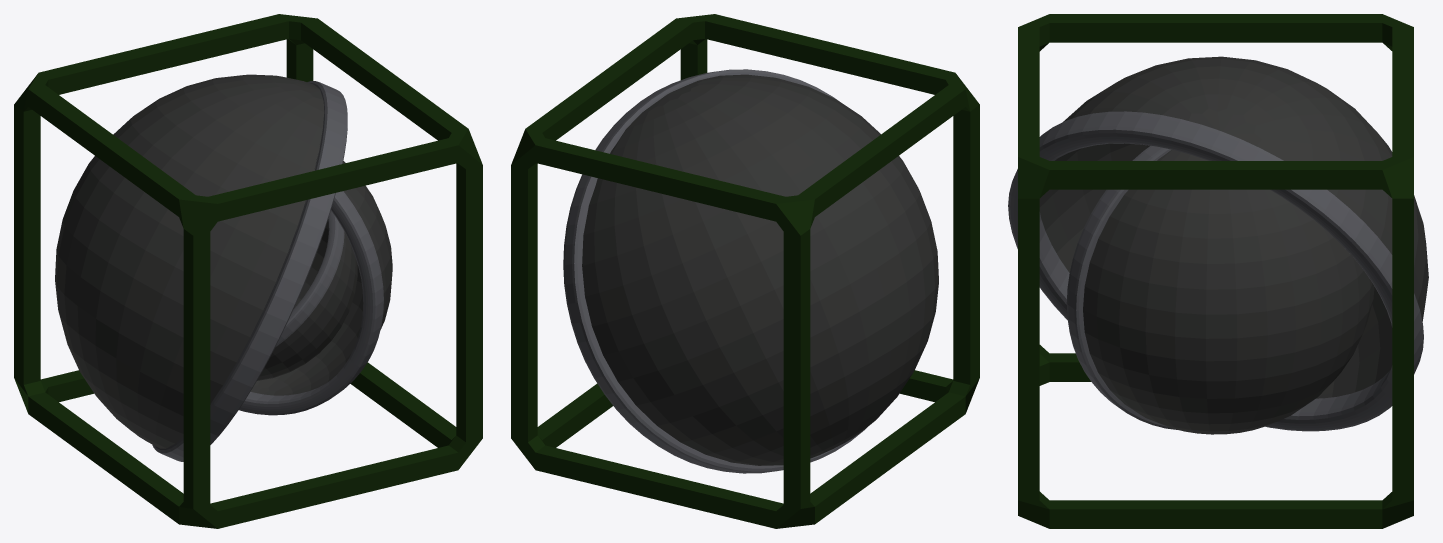
The model's file is Nullelement.fbx.
3 renders of one model, left to right at view 1: azimuth 30°, elevation 25°; view 2: azimuth 150°, elevation 25°; view 3: azimuth 270°, elevation 25°, orthographic. The views are drawn at different scales.
Parts seen in each view (by area): view 1: Cylinder.035, Cylinder.034, Cylinder.068, Cylinder.103; view 2: Cylinder.034, Cylinder.035; view 3: Cylinder.068, Cylinder.035, Cylinder.034.
Boxes of the visible parts, left/top/right/bottom form: Cylinder.035: left=14, top=14, right=482, bottom=528; Cylinder.034: left=55, top=74, right=347, bottom=461; Cylinder.068: left=239, top=161, right=392, bottom=415; Cylinder.103: left=257, top=211, right=357, bottom=380; Cylinder.034: left=563, top=69, right=938, bottom=473; Cylinder.035: left=511, top=14, right=979, bottom=528; Cylinder.068: left=1066, top=146, right=1374, bottom=434; Cylinder.035: left=1018, top=14, right=1413, bottom=528; Cylinder.034: left=1008, top=56, right=1428, bottom=431.
Size of the model in its own units: 1211 by 1284 by 1278.
